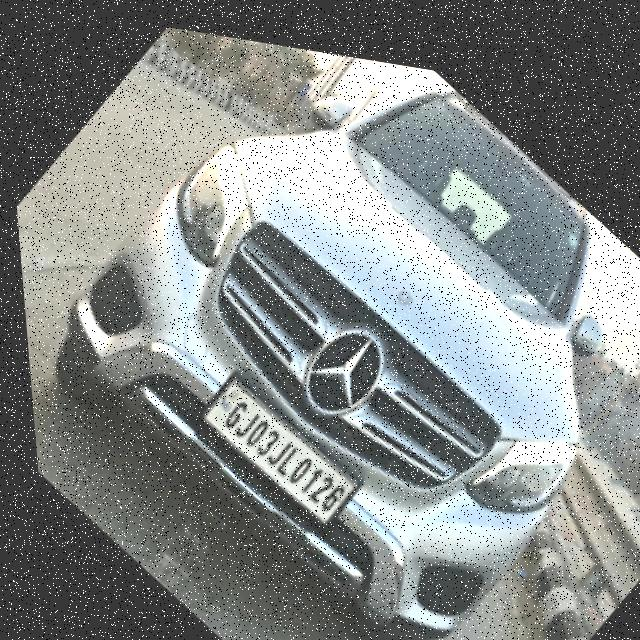license_plate: (186, 362, 352, 526)
